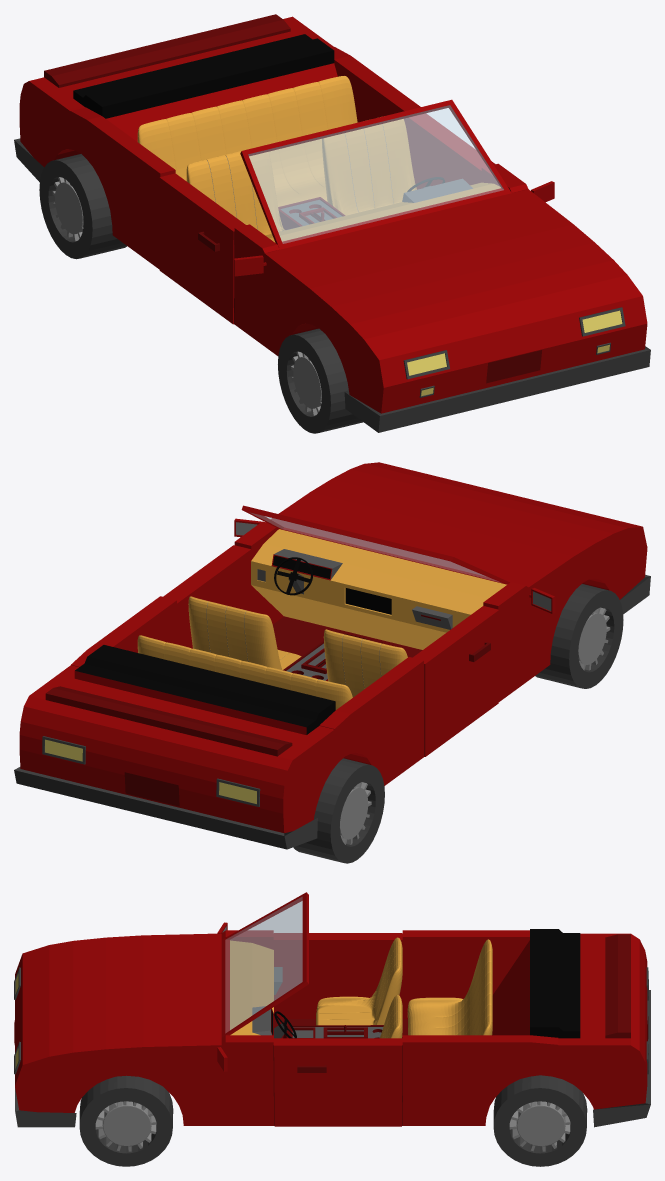
Rendered from MainCarJoined.fbx.
3 views of the same model, one above another, from view 1: azimuth 30°, elevation 25°; view 2: azimuth 150°, elevation 25°; view 3: azimuth 270°, elevation 25° (orthographic). The views are drawn at different scales.
Visible parts, largest first — view 1: MainCarTogether; view 2: MainCarTogether; view 3: MainCarTogether.
Boxes of the visible parts, x1,y1,x2,y2 form: MainCarTogether: [14, 14, 650, 433]; MainCarTogether: [14, 462, 650, 863]; MainCarTogether: [14, 892, 650, 1166].
Bounding box in the file's own units: 194 × 112 × 385.
